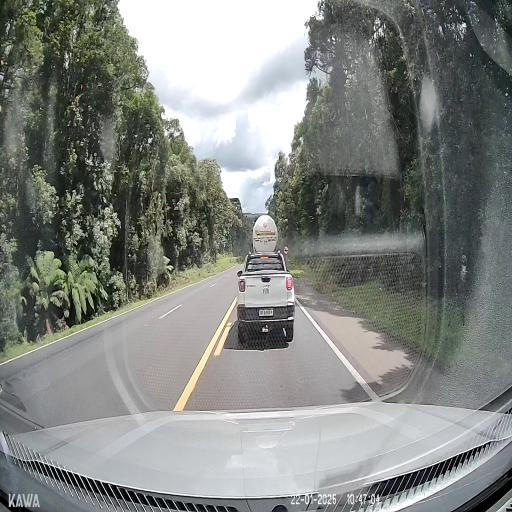R-7: (284, 245, 288, 255)
